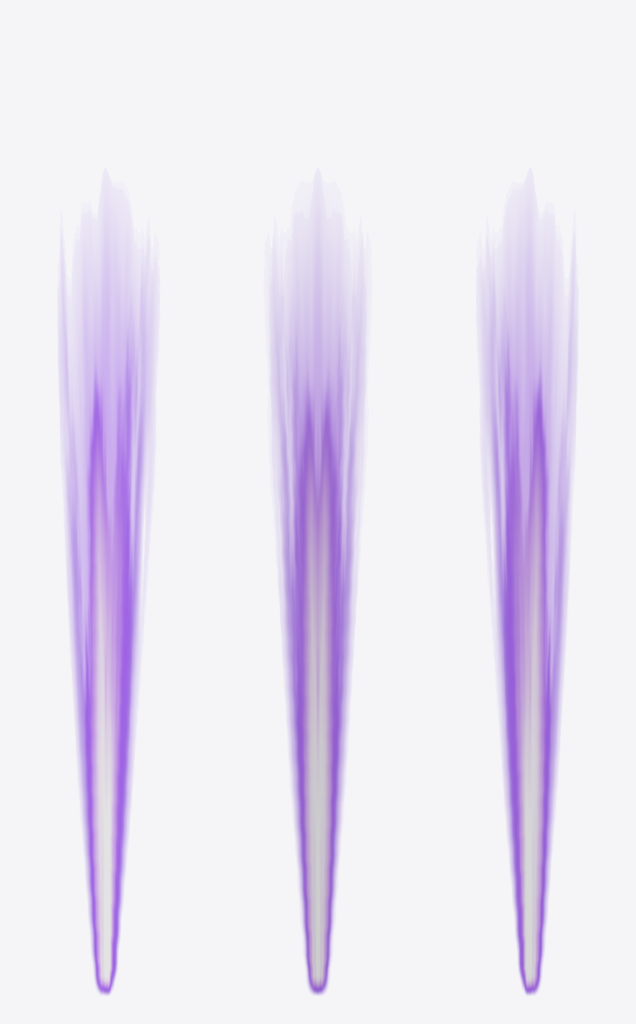
Rendered from trail_flame_arcane.glb.
3 views of the same model, side by side, from view 1: azimuth 30°, elevation 25°; view 2: azimuth 150°, elevation 25°; view 3: azimuth 270°, elevation 25° (orthographic).
Parts seen in each view (by area): view 1: flame; view 2: flame; view 3: flame.
Boxes of the visible parts, x1,y1,x2,y2 form: flame: (61,224,152,994); flame: (272,224,363,994); flame: (483,224,574,994).
Bounding box in the file's own units: 11.8 × 58 × 10.22.
1 material, 1 textured.
